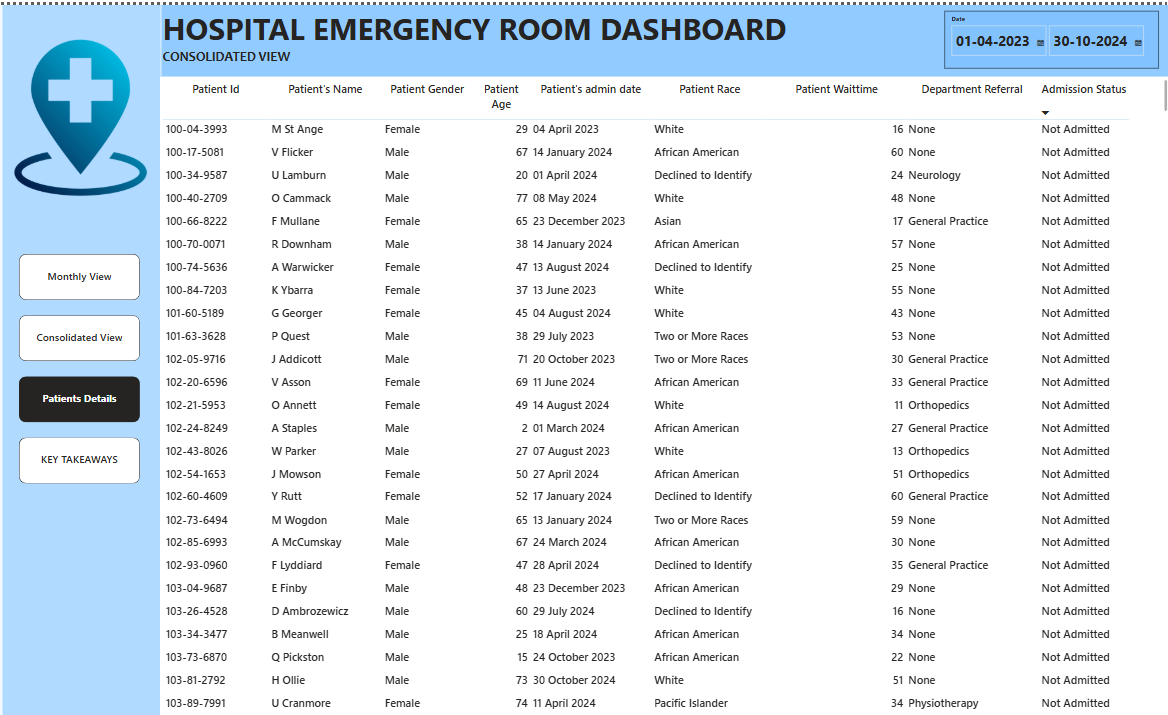

This screenshot's page, from the dashboard's own definition file:
{"tool":"powerbi","page":{"name":"Patients Details","canvas":[2300,1400],"ordinal":2},"visuals":[{"type":"shape","box":[10.2,0,310,1399],"z":0},{"type":"textbox","box":[318,0,1253.1,138.5],"z":0,"group":"g1"},{"type":"shape","box":[319.2,0,1981,140],"z":1000},{"type":"textbox","box":[326.8,79.4,329.4,58.8],"z":1000,"group":"g1"},{"type":"group","id":"g1","title":"Group 1","box":[318,0,1253.1,138.5],"z":2000},{"type":"slicer","fields":{"Values":["Date Table.Date"]},"box":[1855,12.5,420,112.5],"z":3000},{"type":"image","box":[2.5,0,317.5,442.5],"z":4000},{"type":"tableEx","fields":{"Values":["Hospital ER_Data.Patient Id","Hospital ER_Data.Patient's Full Name","Hospital ER_Data.Patient Gender","Sum(Hospital ER_Data.Patient Age)","Hospital ER_Data.Patient's admin date","Hospital ER_Data.Patient Race","Sum(Hospital ER_Data.Patient Waittime)","Hospital ER_Data.Department Referral","Hospital ER_Data.Admission Status"]},"box":[317.5,140,1982.5,1260],"z":5000},{"type":"pageNavigator","box":[40,487.5,237.5,452.5],"z":6000}]}

Visuals, with their boxes in screenshot pixels (x1, y1, x2, y2), scaled from the page's 2300x1400 canvas onto the 1168x715 screenshot:
shape: [5,0,163,714]
textbox: [161,0,798,71]
shape: [162,0,1167,72]
textbox: [166,41,333,71]
"Group 1" group: [161,0,798,71]
slicer - Date Table.Date: [942,6,1155,64]
image: [1,0,163,226]
tableEx - Hospital ER_Data.Patient Id x Hospital ER_Data.Patient's Full Name: [161,72,1167,714]
pageNavigator: [20,249,141,480]
